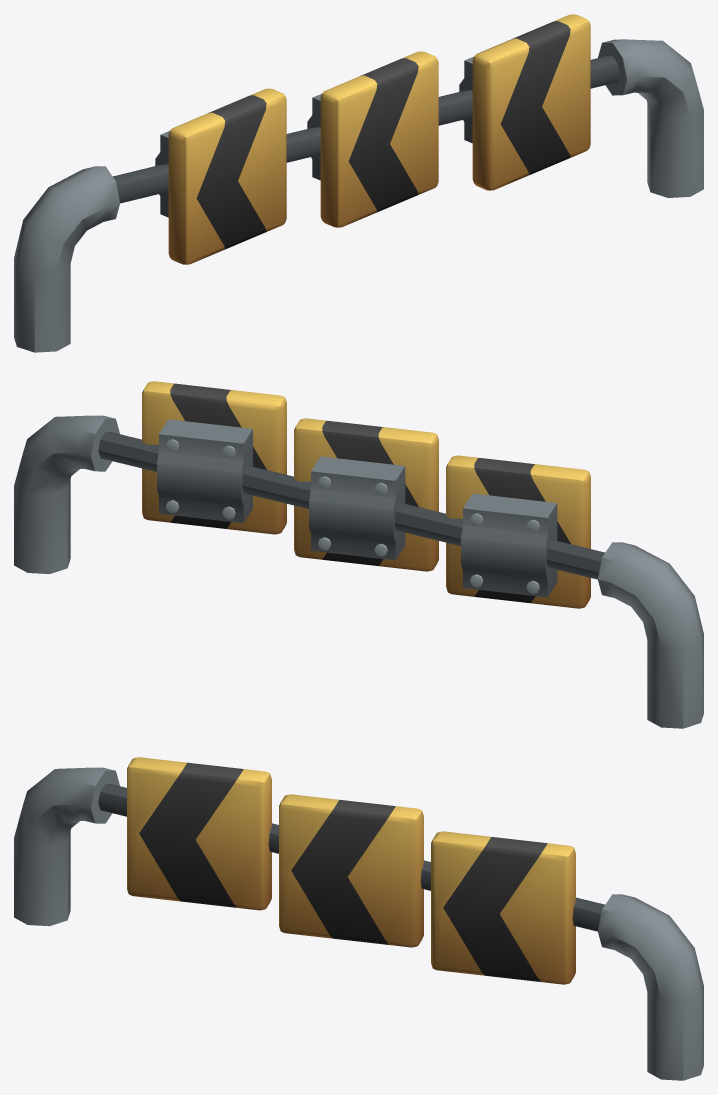
The model's file is signage_arrows_left.glb.
3 renders of one model, top to bottom at view 1: azimuth 30°, elevation 25°; view 2: azimuth 150°, elevation 25°; view 3: azimuth 330°, elevation 25°, orthographic.
Parts seen in each view (by area): view 1: signage_arrows_left; view 2: signage_arrows_left; view 3: signage_arrows_left.
Boxes of the visible parts, x1=… form: signage_arrows_left: x1=14, y1=14, x2=703, y2=352; signage_arrows_left: x1=14, y1=381, x2=703, y2=728; signage_arrows_left: x1=14, y1=757, x2=703, y2=1080.
Bounding box in the file's own units: 5.4 × 1.5 × 0.6771.
1 material, 1 textured.
